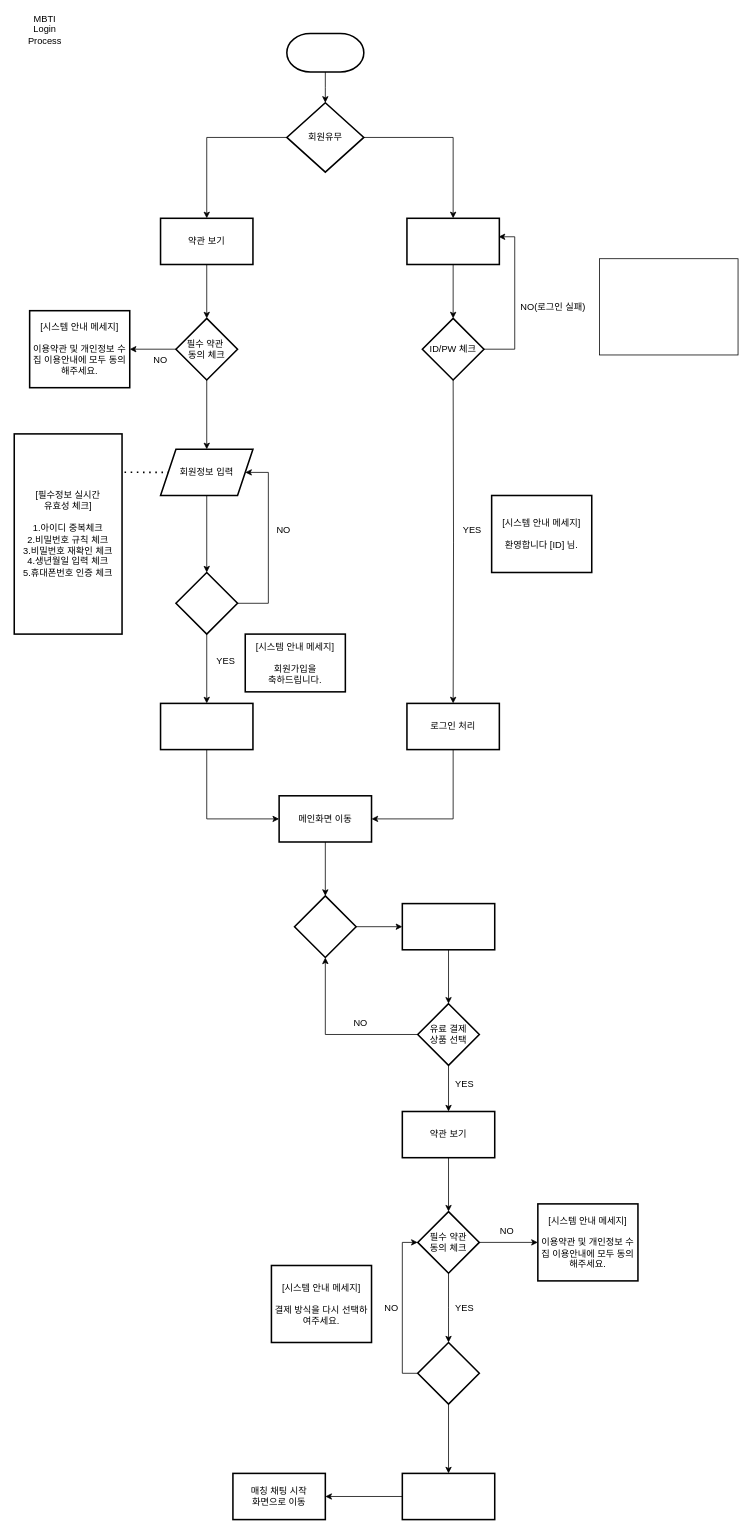
Some shapes in this 752 by 1534 pixel diagram are drawn without their labels. The shapes that lost their labels are listed below. From the top down, each one's centre as x and y in pixels, then its label:
At pixel 325 52: "회원가입".
At pixel 453 241: "로그인 화면".
At pixel 668 306: "[시스템 안내 메세지] ID 또는 PW 를 확인해주세요 등록되지않은 ID 이거나. ID 또는 PW를 잘못 입력하셧습니다".
At pixel 206 602: "데이터 유효성 체크".
At pixel 206 726: "회원가입 성공 및 자동 로그인".
At pixel 325 926: "메뉴 선택".
At pixel 448 926: "유료 결제".
At pixel 448 1372: "결제 방식 선택".
At pixel 448 1496: "결제 완료".
